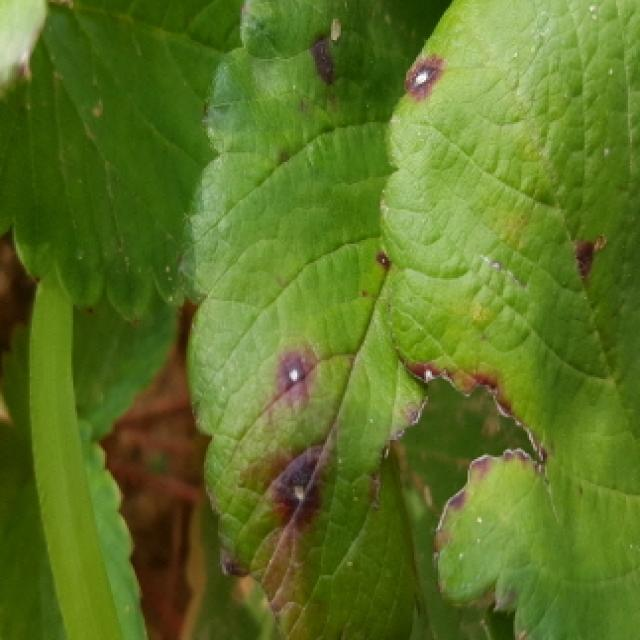Leaf Spot: (178, 0, 455, 640), (377, 0, 640, 640)
